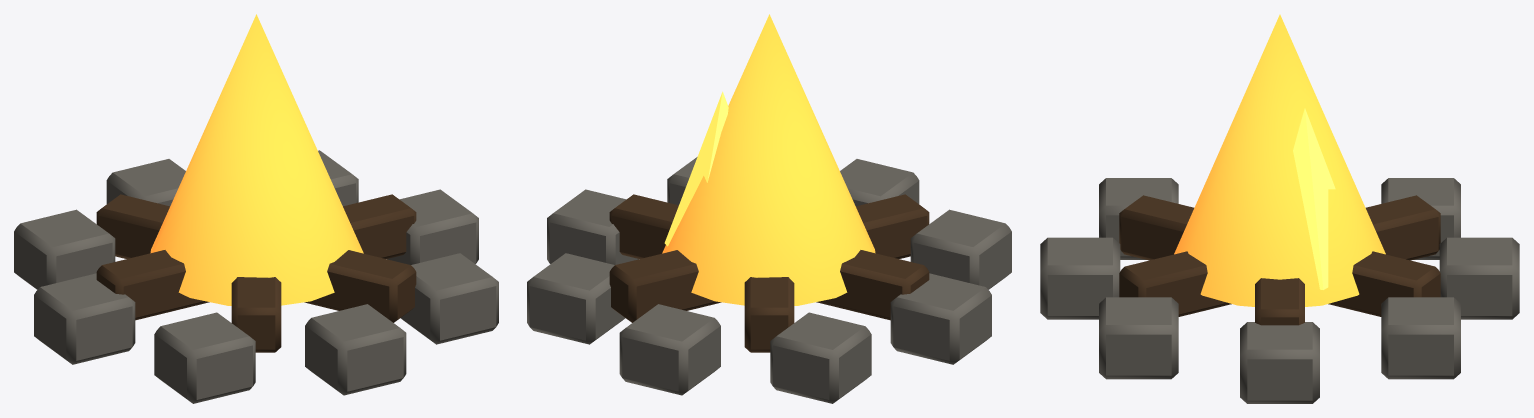
The model's file is campfire.glb.
3 views of the same model, side by side, from view 1: azimuth 30°, elevation 25°; view 2: azimuth 150°, elevation 25°; view 3: azimuth 270°, elevation 25° (orthographic).
Parts seen in each view (by area): view 1: building, flame; view 2: building, flame; view 3: building, flame.
Boxes of the visible parts, <box> form: building: <box>14,150,498,403</box>; flame: <box>150,14,363,305</box>; building: <box>527,157,1011,403</box>; flame: <box>662,14,875,305</box>; building: <box>1040,178,1519,403</box>; flame: <box>1174,14,1385,306</box>.
Bounding box in the file's own units: 0.96 × 0.645 × 0.96.
